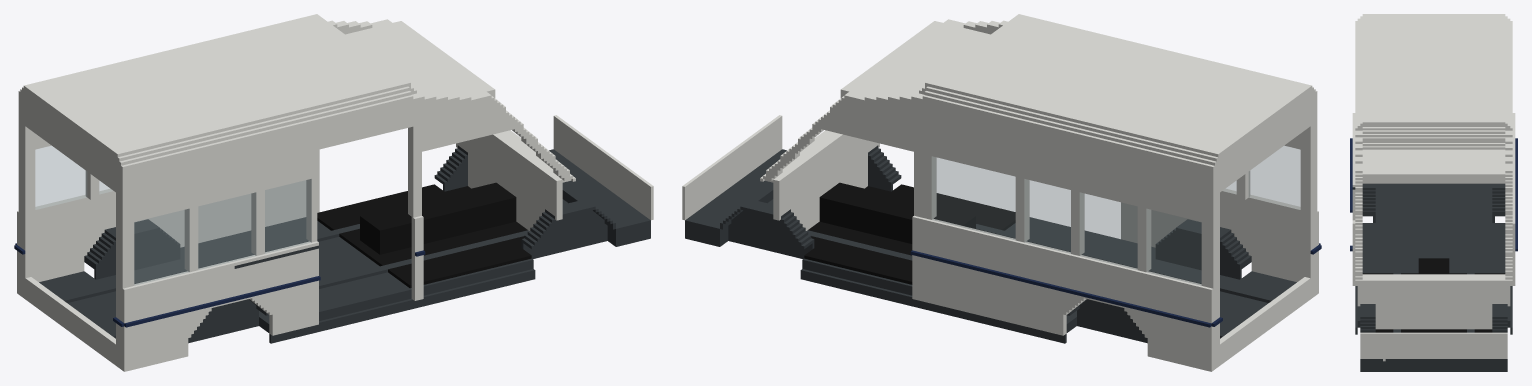
File: riot_van_shell.glb
3 renders of one model, left to right at view 1: azimuth 30°, elevation 25°; view 2: azimuth 150°, elevation 25°; view 3: azimuth 270°, elevation 25°, orthographic. The views are drawn at different scales.
Parts seen in each view (by area): view 1: body:compound; view 2: body:compound; view 3: body:compound.
Boxes of the visible parts, bbox=[...] form: body:compound: bbox=[14, 14, 653, 371]; body:compound: bbox=[682, 14, 1321, 371]; body:compound: bbox=[1350, 14, 1517, 371].
Bounding box in the file's own units: 5.78 × 2.28 × 2.06.
